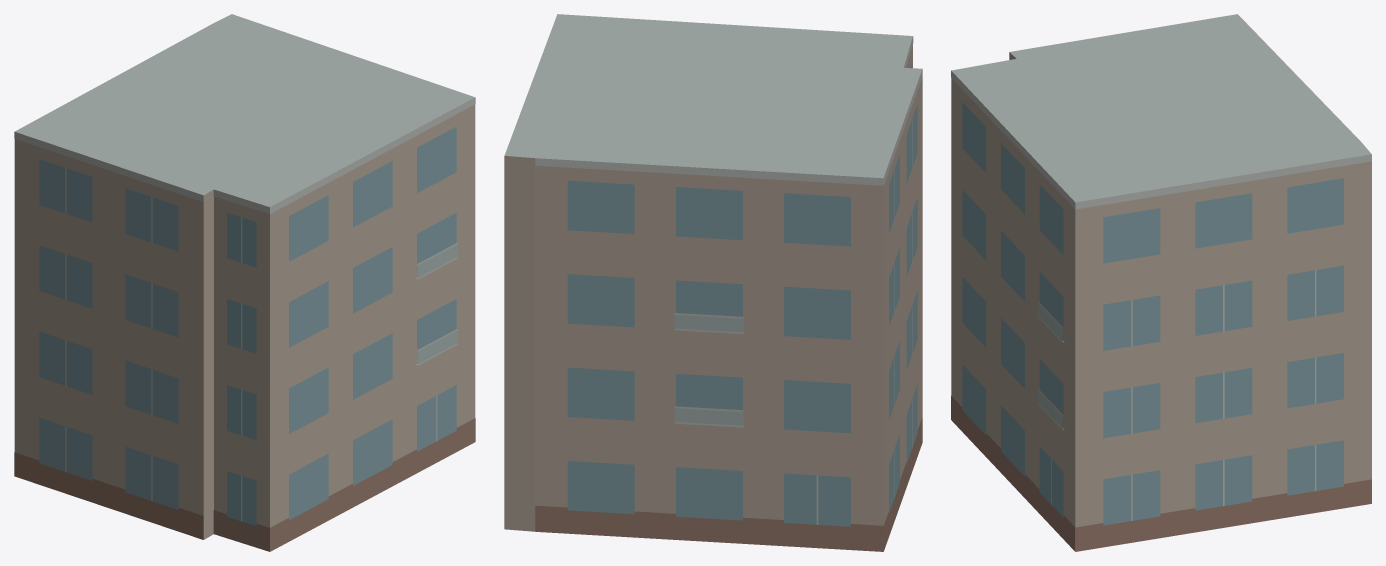
Rendered from survey-upis-33046713.glb.
3 renders of one model, left to right at view 1: azimuth 30°, elevation 25°; view 2: azimuth 150°, elevation 25°; view 3: azimuth 270°, elevation 25°, orthographic. The views are drawn at different scales.
Visible parts, largest first — view 1: survey-upis-33046713.tmp; view 2: survey-upis-33046713.tmp; view 3: survey-upis-33046713.tmp.
Part boxes in pixels (x1,y1,x2,y2): survey-upis-33046713.tmp: (14, 14, 475, 551); survey-upis-33046713.tmp: (504, 14, 922, 551); survey-upis-33046713.tmp: (951, 14, 1371, 551).
Size of the model in its own units: 14.03 by 12.12 by 13.23.
